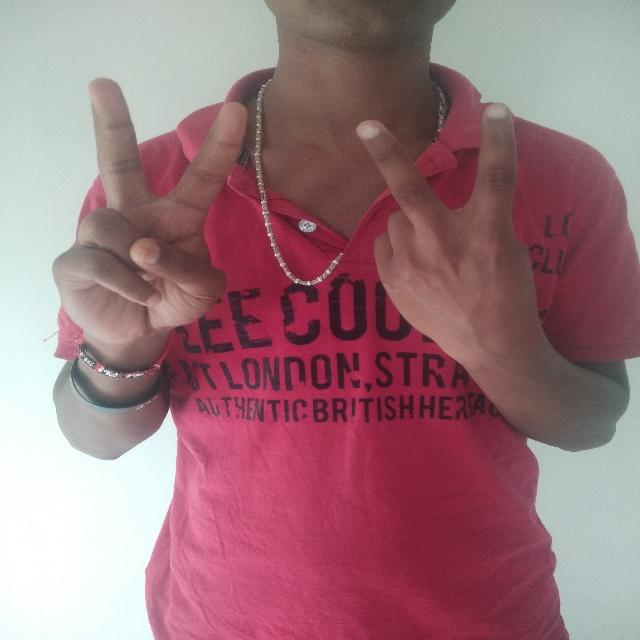Reversed Victory: (346, 95, 560, 375)
